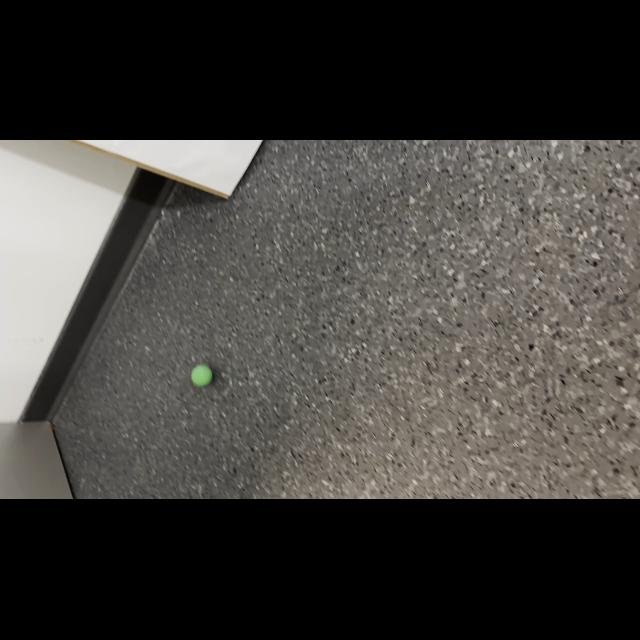objects: (190, 362, 214, 388)
